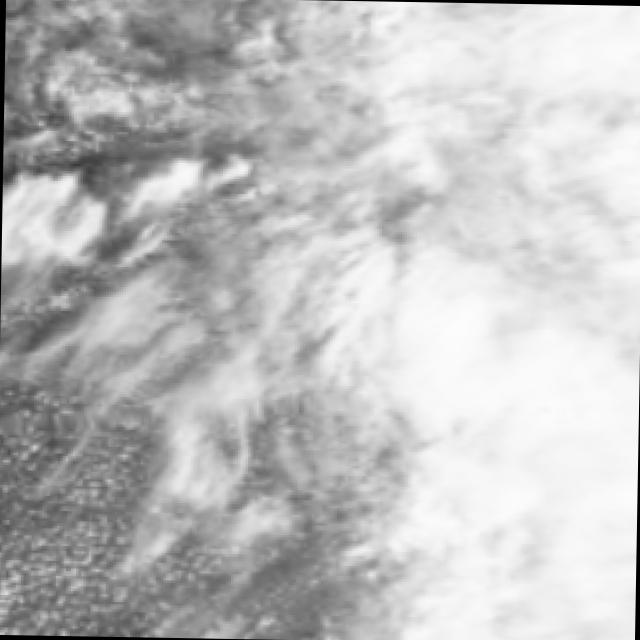CB: (466, 341, 639, 640)
